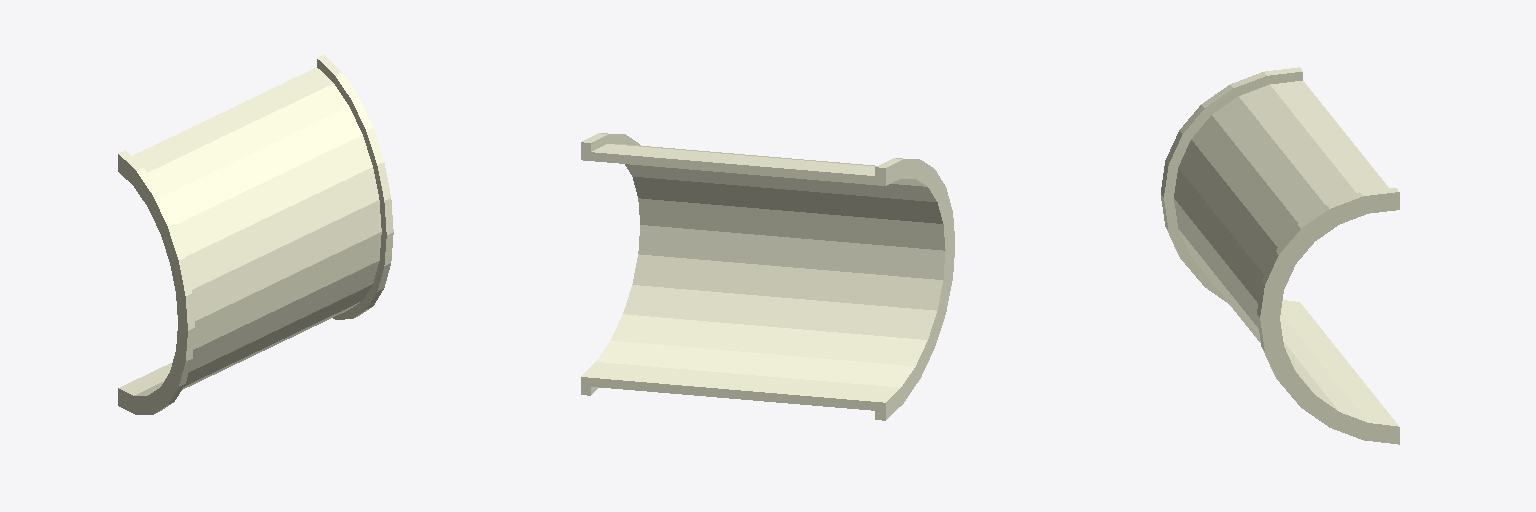
Rendered from section_033.obj.
The picture shows the model from 3 angles: view 1: azimuth 30°, elevation 25°; view 2: azimuth 150°, elevation 25°; view 3: azimuth 270°, elevation 25°; orthographic projection.
Bounding box in the file's own units: 29.62 × 28 × 24.